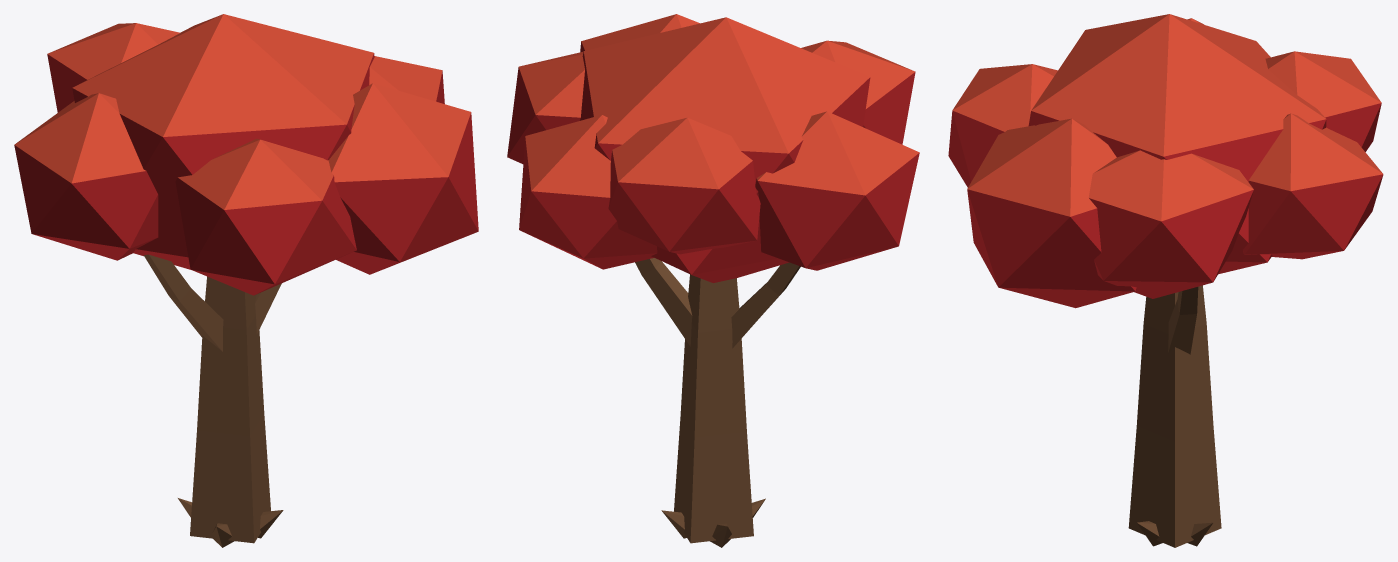
Rendered from MapleTree.fbx.
3 views of the same model, side by side, from view 1: azimuth 30°, elevation 25°; view 2: azimuth 150°, elevation 25°; view 3: azimuth 270°, elevation 25° (orthographic).
Visible parts, largest first — view 1: MapleTree; view 2: MapleTree; view 3: MapleTree.
Boxes of the visible parts, left/top/right/bottom form: MapleTree: left=14, top=14, right=478, bottom=547; MapleTree: left=507, top=14, right=919, bottom=547; MapleTree: left=948, top=14, right=1383, bottom=547.
Size of the model in its own units: 11.23 by 14.17 by 10.77.
1 material, 1 textured.
